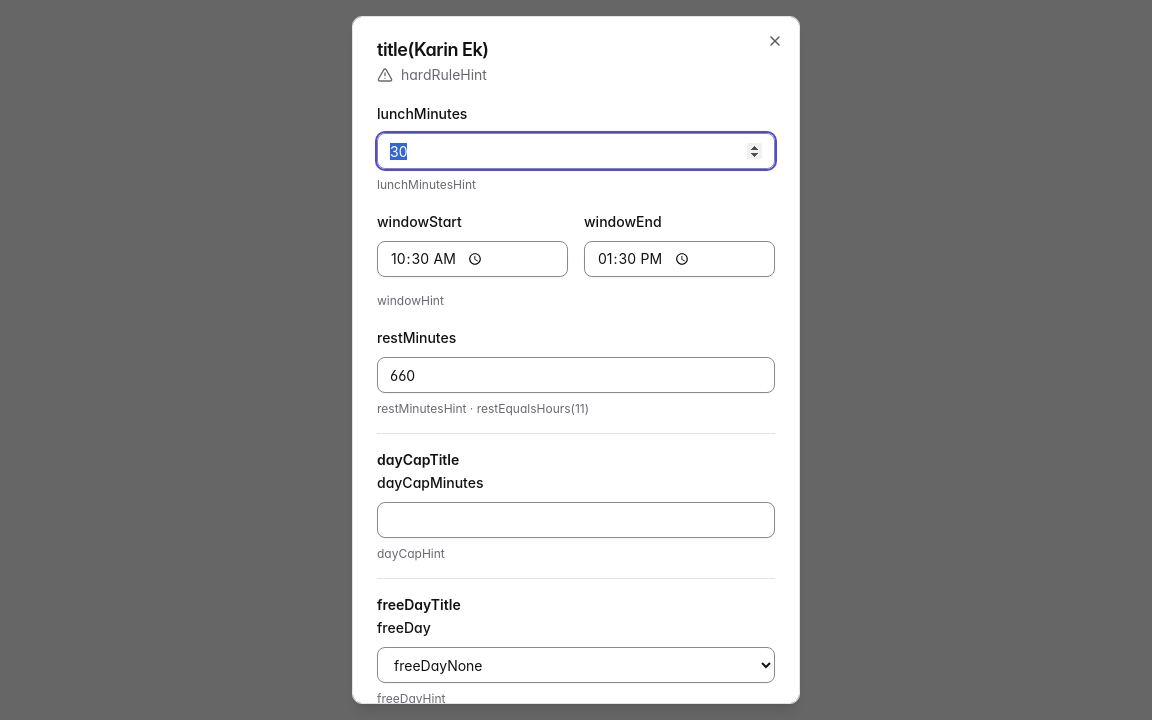
Scenario: a half-filled lunch trio › is refused the other way round too — a window with no length
Step 1. Clear the number field labelled "lunchMinutes" → (576, 151), box [377, 133, 775, 169]
(page scrolled)
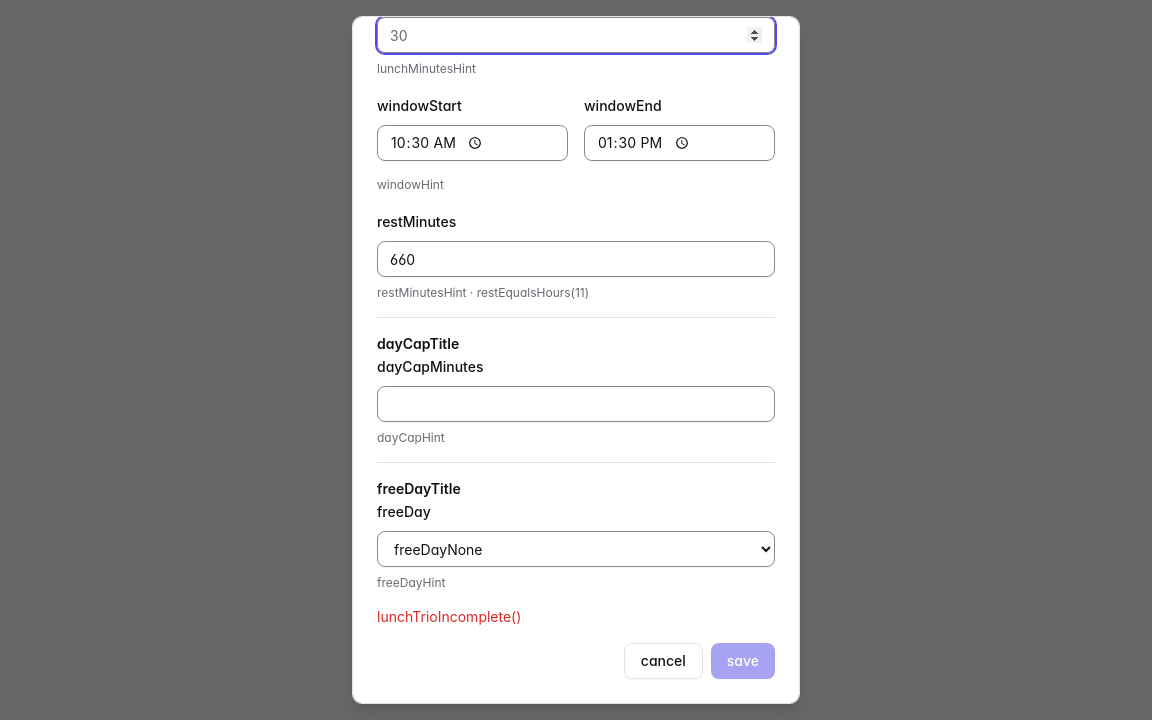
Check: the message shows "lunchTrioIncomplete", box [377, 608, 521, 625]
Check: the button "save" is disabled, box [711, 643, 775, 679]
